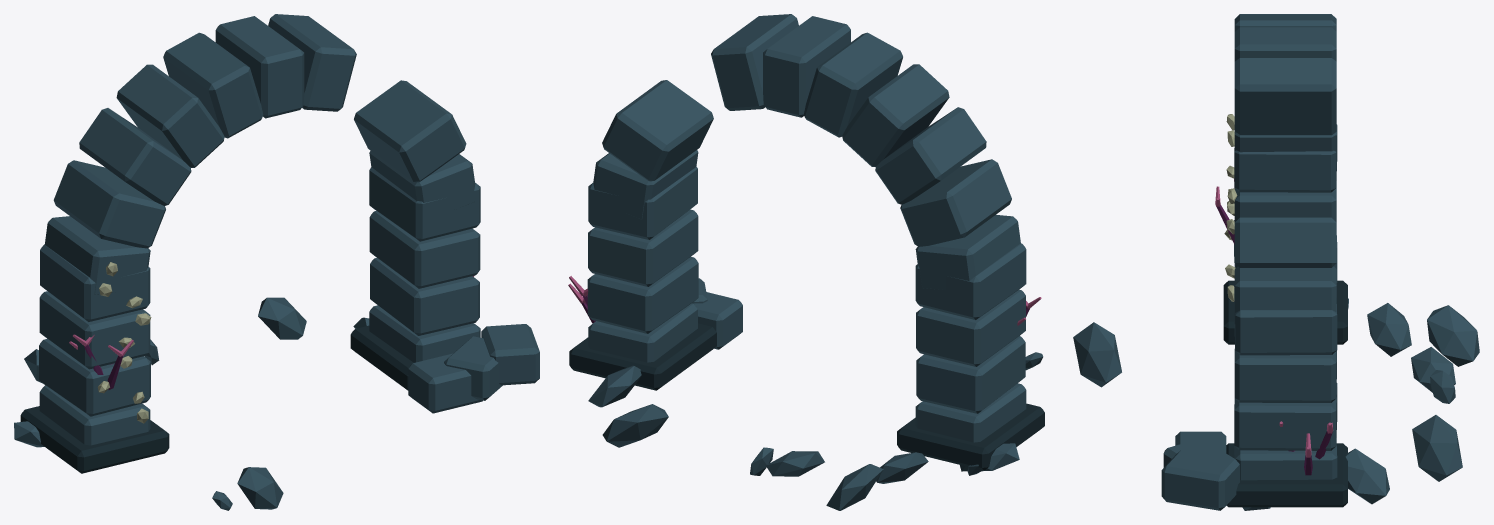
Rendered from 01_broken_arch.glb.
3 views of the same model, side by side, from view 1: azimuth 30°, elevation 25°; view 2: azimuth 150°, elevation 25°; view 3: azimuth 270°, elevation 25° (orthographic).
Visible parts, largest first — view 1: ArchVoussoir.001, ArchVoussoir.007, ArchVoussoir.005, ArchVoussoir.004, ArchVoussoir.006, ArchVoussoir.003, ArchPier.006, ArchPier.005, ArchPier.001, ArchPier.002, ArchVoussoir.002, ArchPier.003 (+12 smaller); view 2: ArchVoussoir.001, ArchVoussoir.007, ArchVoussoir.005, ArchVoussoir.004, ArchVoussoir.006, ArchVoussoir.003, ArchPier.005, ArchPier.006, ArchPier.001, ArchPier.002, ArchVoussoir.002, ArchVoussoir.008 (+14 smaller); view 3: ArchVoussoir.002, ArchVoussoir.001, ArchPier.006, ArchPier.005, ArchPier.007, ArchVoussoir, ArchPier.003, FallenArchStone.002, ArchFoot.001, ArchVoussoir.003, ArchPier.004, ArchPier.002 (+12 smaller).
Boxes of the visible parts, x1,y1,x2,y2 form: ArchVoussoir.001: (354,80,466,182); ArchVoussoir.007: (53,160,165,248); ArchVoussoir.005: (116,64,224,167); ArchVoussoir.004: (163,32,263,138); ArchVoussoir.006: (79,108,191,205); ArchVoussoir.003: (215,16,304,118); ArchPier.006: (369,211,480,288); ArchPier.005: (370,258,479,335); ArchPier.001: (39,338,150,416); ArchPier.002: (39,291,150,369); ArchVoussoir.002: (268,14,356,111); ArchPier.003: (40,244,150,321); ArchVoussoir.001: (602,80,713,181); ArchVoussoir.007: (900,159,1011,246); ArchVoussoir.005: (842,64,949,166); ArchVoussoir.004: (804,32,902,137); ArchVoussoir.006: (875,107,986,204); ArchVoussoir.003: (763,16,850,117); ArchPier.005: (587,257,698,333); ArchPier.006: (588,209,698,286); ArchPier.001: (916,336,1025,413); ArchPier.002: (916,289,1025,366); ArchVoussoir.002: (711,14,798,110); ArchVoussoir.008: (915,215,1020,289); ArchVoussoir.002: (1234,58,1336,135); ArchVoussoir.001: (1234,217,1336,267); ArchPier.006: (1234,347,1336,402); ArchPier.005: (1234,383,1337,450); ArchPier.007: (1234,287,1337,355); ArchVoussoir: (1234,266,1336,324); ArchPier.003: (1234,124,1337,192); FallenArchStone.002: (1161,450,1239,510); ArchFoot.001: (1226,443,1347,507); ArchVoussoir.003: (1234,27,1336,61); ArchPier.004: (1234,438,1337,480); ArchPier.002: (1234,181,1336,221).
Bounding box in the file's own units: 9.64 × 7.62 × 7.18.
Materials: 5 (5 with a texture image).
